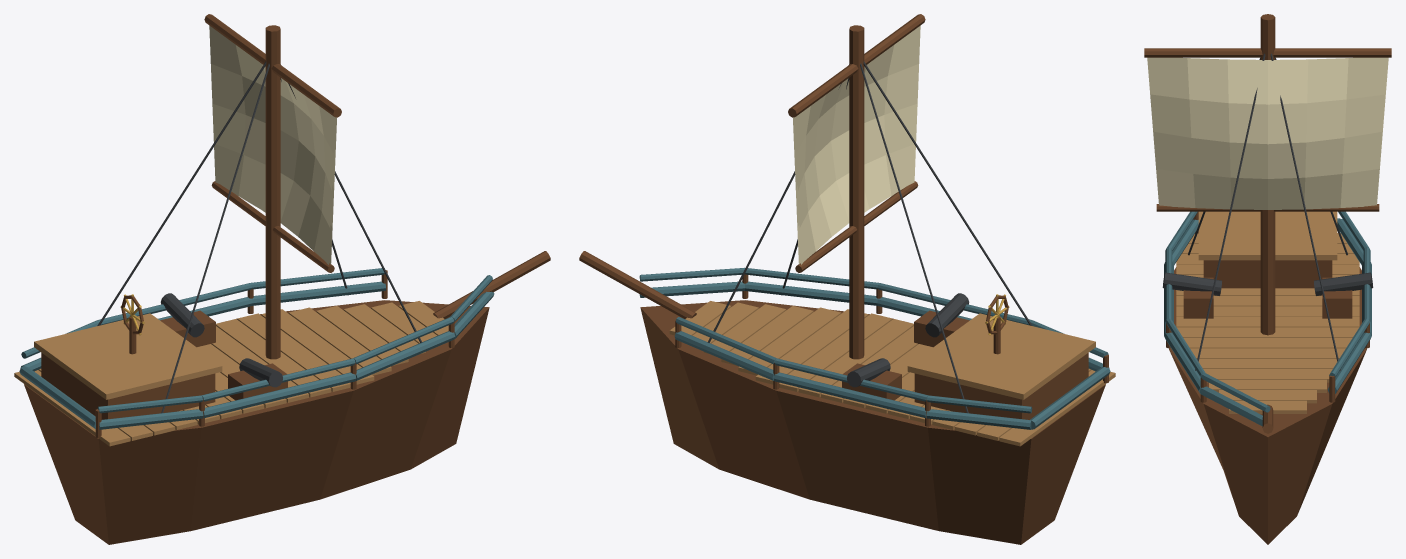
Rendered from SM_FNSOT_Sloop.fbx.
3 views of the same model, side by side, from view 1: azimuth 30°, elevation 25°; view 2: azimuth 150°, elevation 25°; view 3: azimuth 270°, elevation 25° (orthographic). The views are drawn at different scales.
Visible parts, largest first — view 1: SM_FNSOT_Sloop; view 2: SM_FNSOT_Sloop; view 3: SM_FNSOT_Sloop.
Boxes of the visible parts, x1,y1,x2,y2 form: SM_FNSOT_Sloop: (14, 14, 550, 544); SM_FNSOT_Sloop: (579, 14, 1115, 544); SM_FNSOT_Sloop: (1144, 14, 1391, 544).
Size of what is drawn, in the model's own units: 500 by 1103 by 985.
